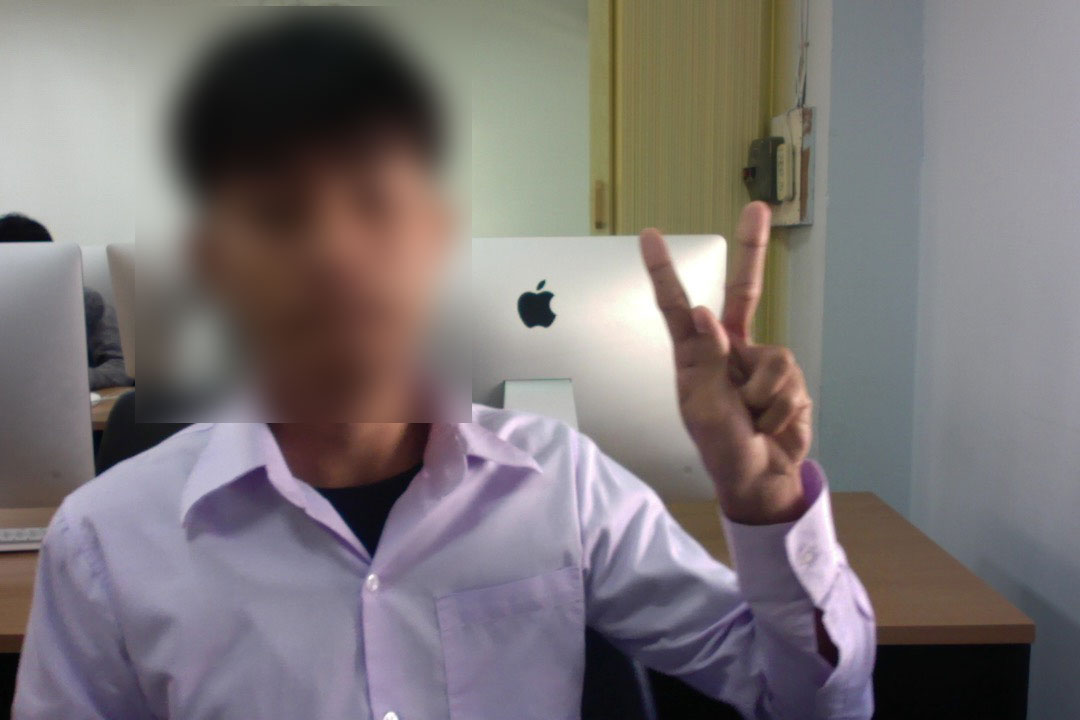ko: (605, 186, 842, 522)
